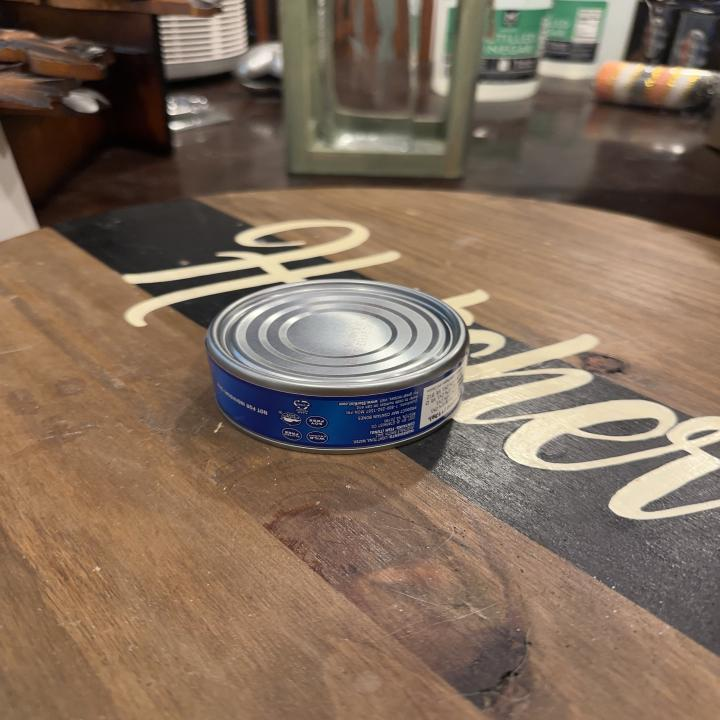Canned-Tuna: (204, 277, 473, 458)
